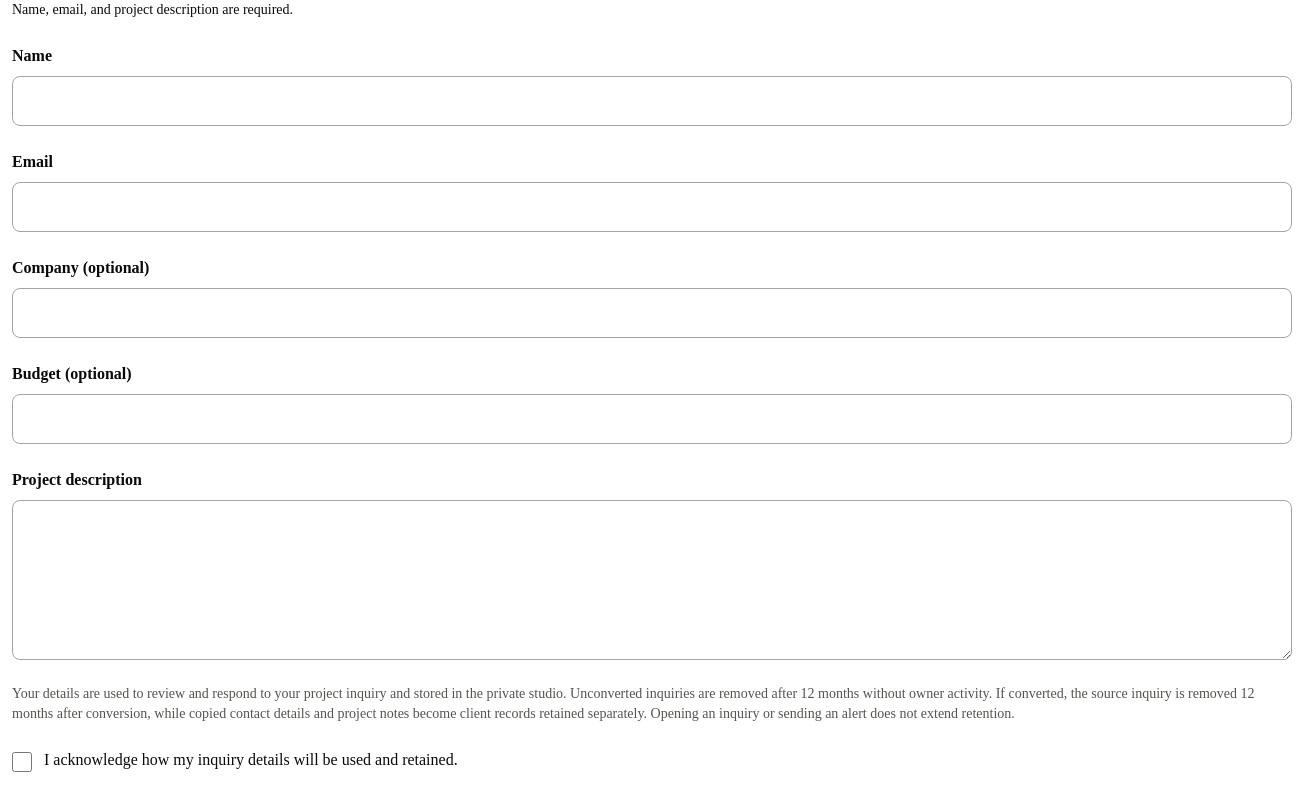
Test: AC-2, AC-4: visitor form states › preserves failed draft and submission identity, then confirms without exposing server details
Type "Fake Visitor" into the field labelled "Name" at [652, 101], box [12,76,1292,126]
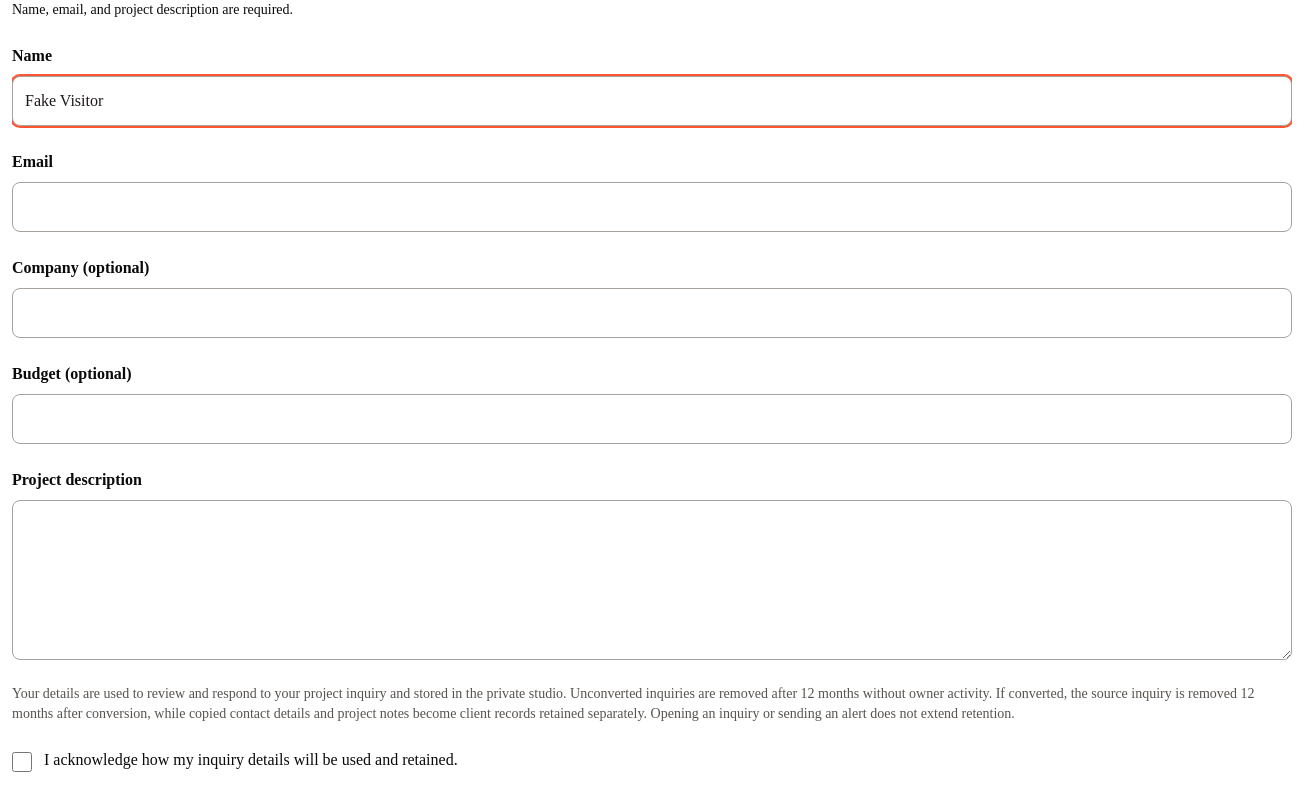
Type "fake@example.invalid" into the field labelled "Email" at [652, 207], box [12,182,1292,232]
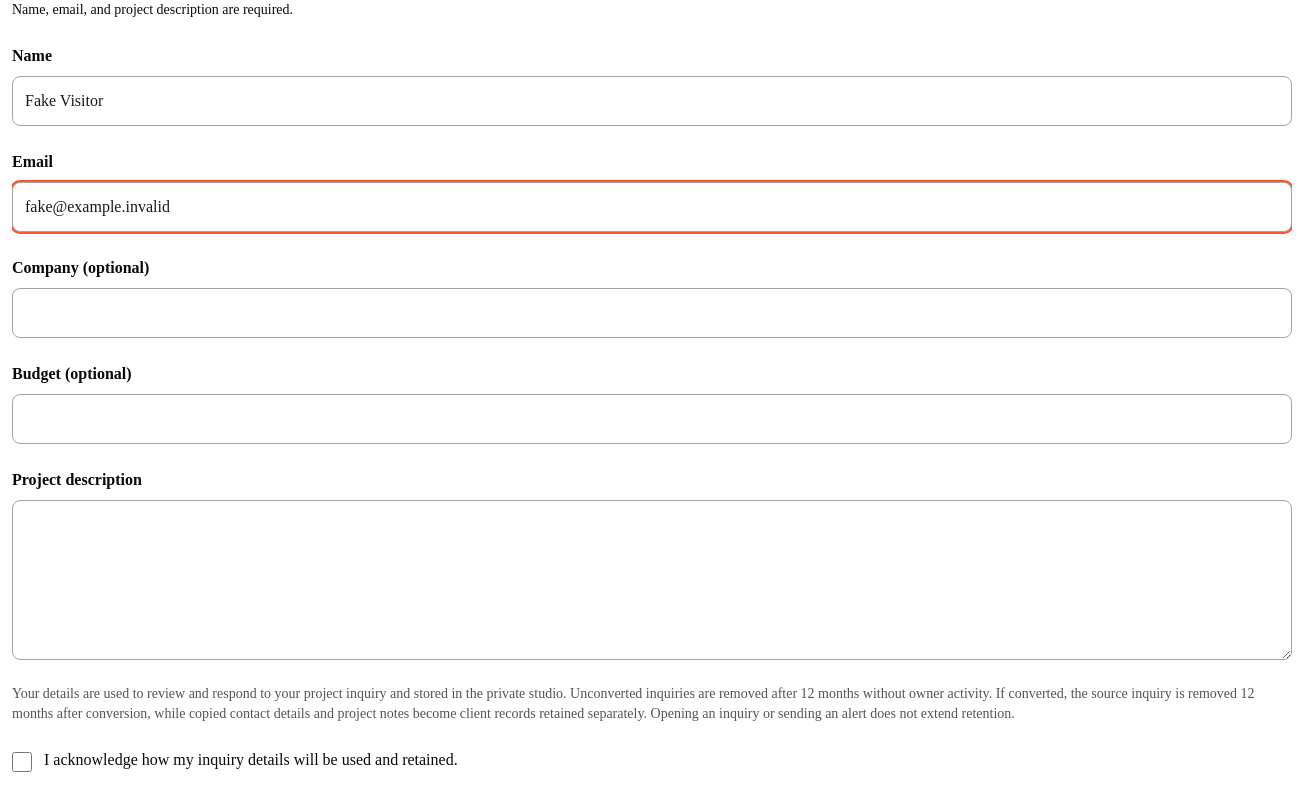
Type "This is a fake project with enough detail." into the text box labelled "Project description" at [652, 580], box [12,500,1292,660]
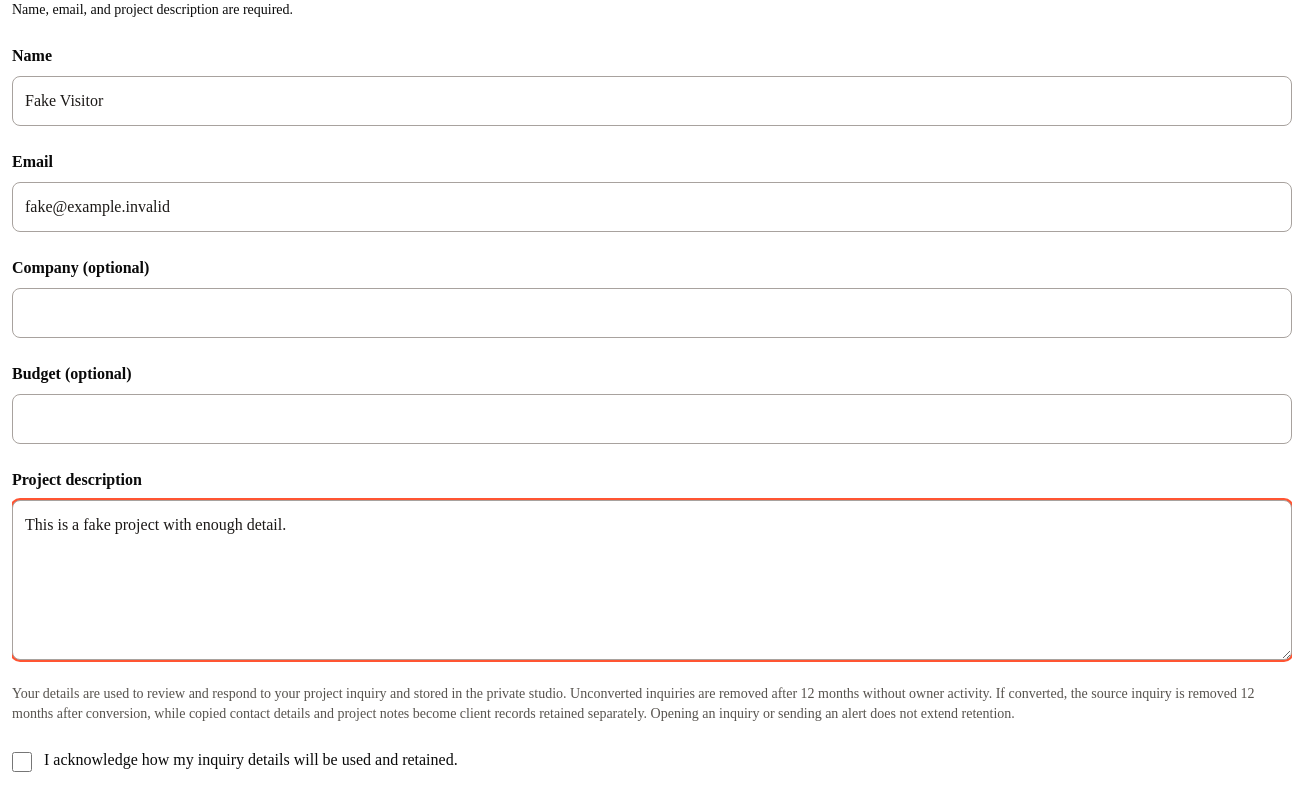
Click the checkbox at [22, 762], box [12,752,32,772]
(page scrolled)
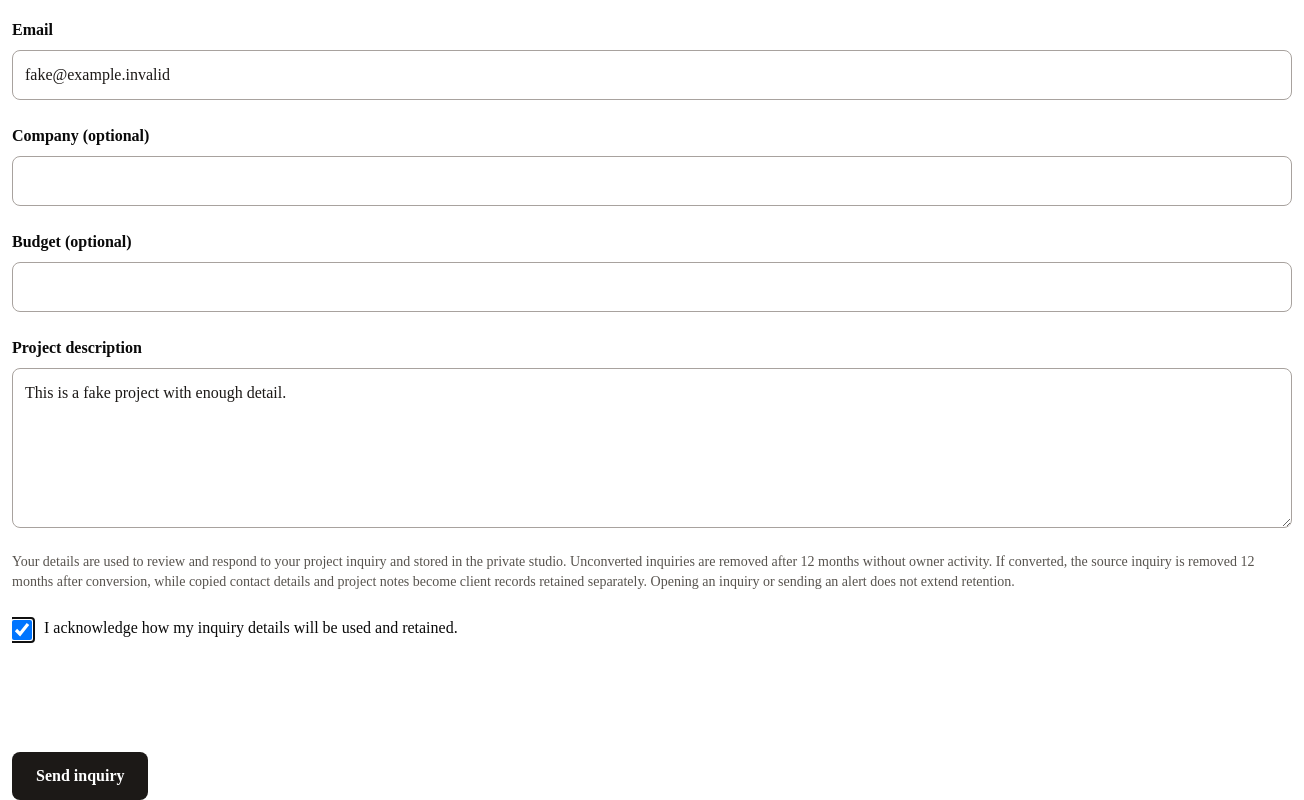
Click the button "Send inquiry" at [80, 776], box [12,752,148,799]
(page scrolled)
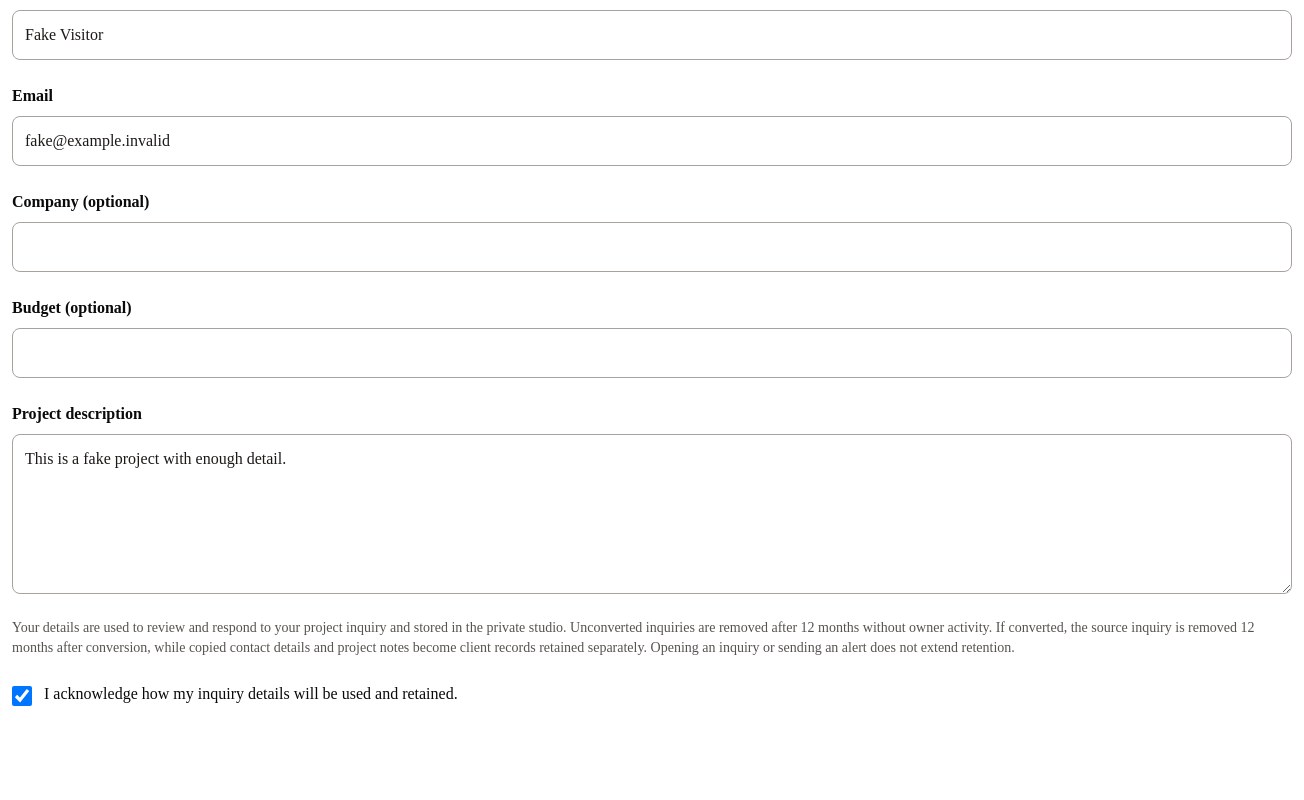
// Retry still submits the same immutable draft even when the new challenge is absent.
Submit the form labelled "Name"
(page scrolled)
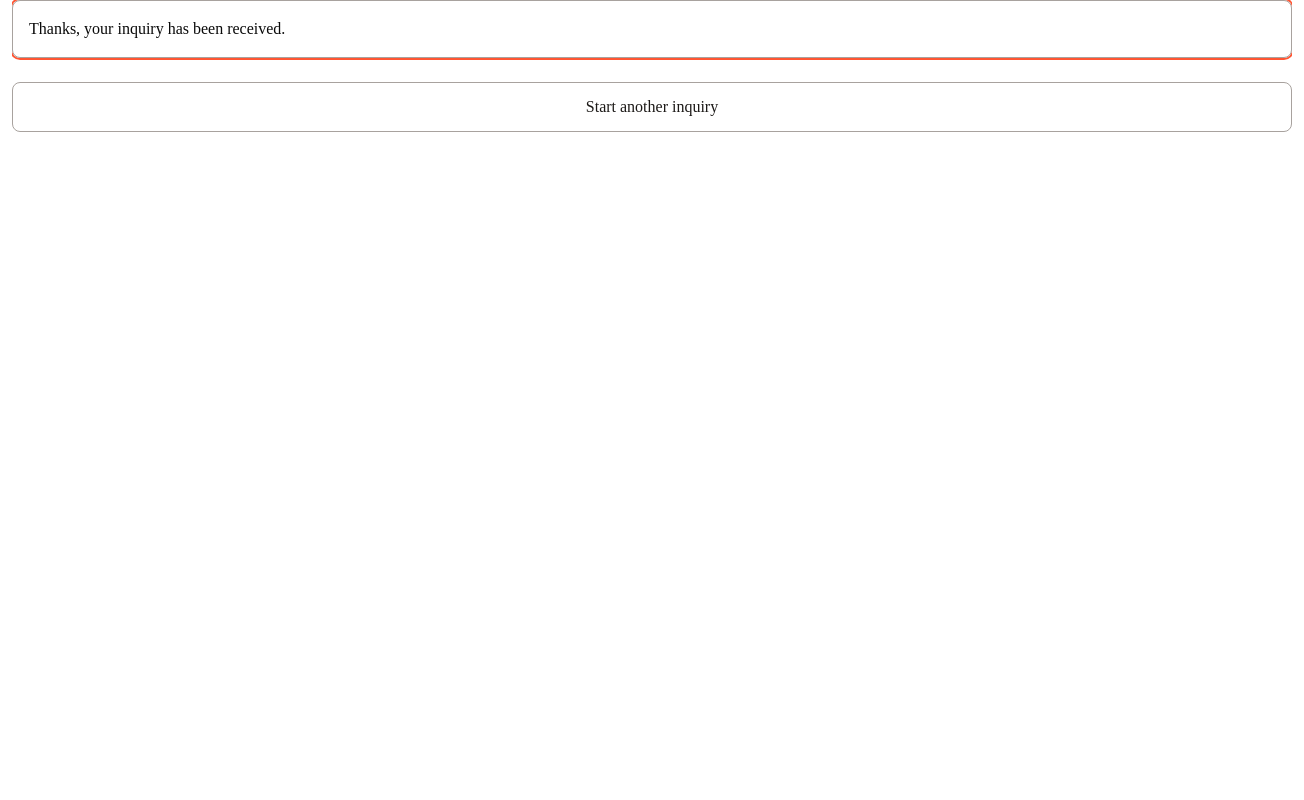
Now the text "Thanks, your inquiry has been received." is shown, box [12,0,1292,58]
